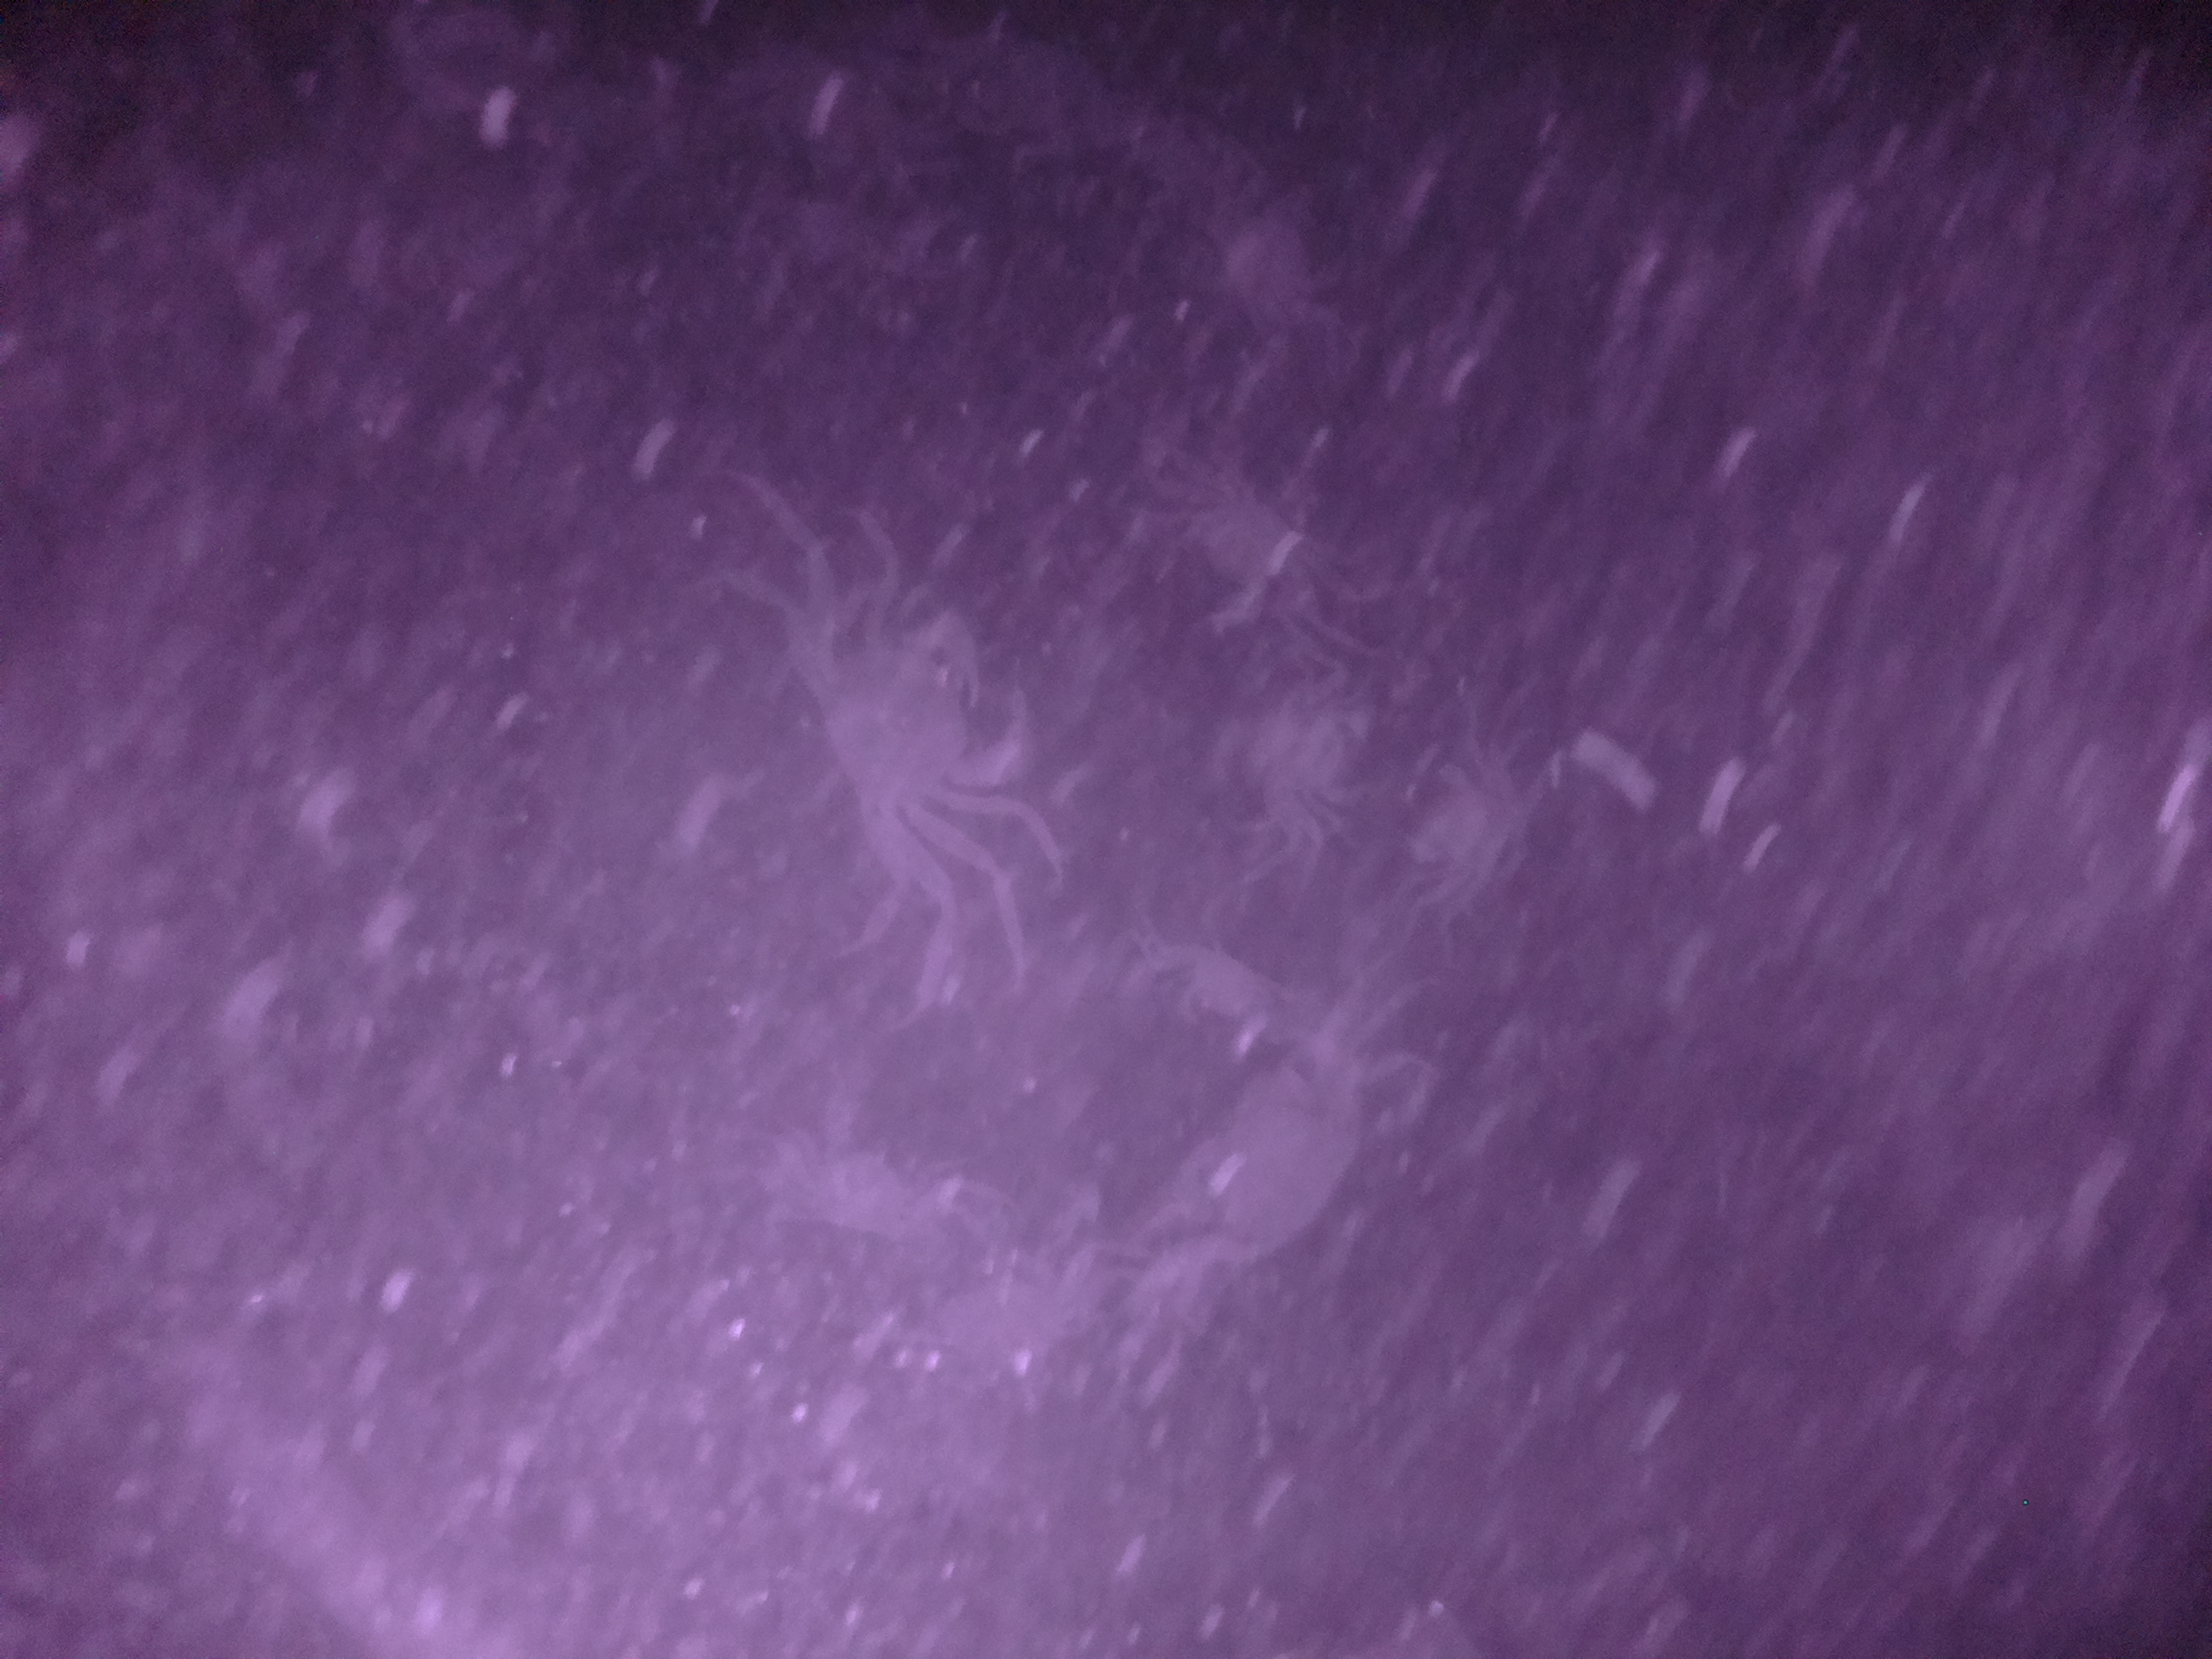Crab: (808, 579, 1052, 871), (1139, 939, 1306, 1054)
